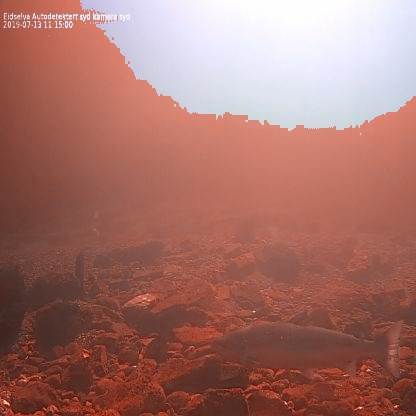salmon: (208, 308, 406, 386)
